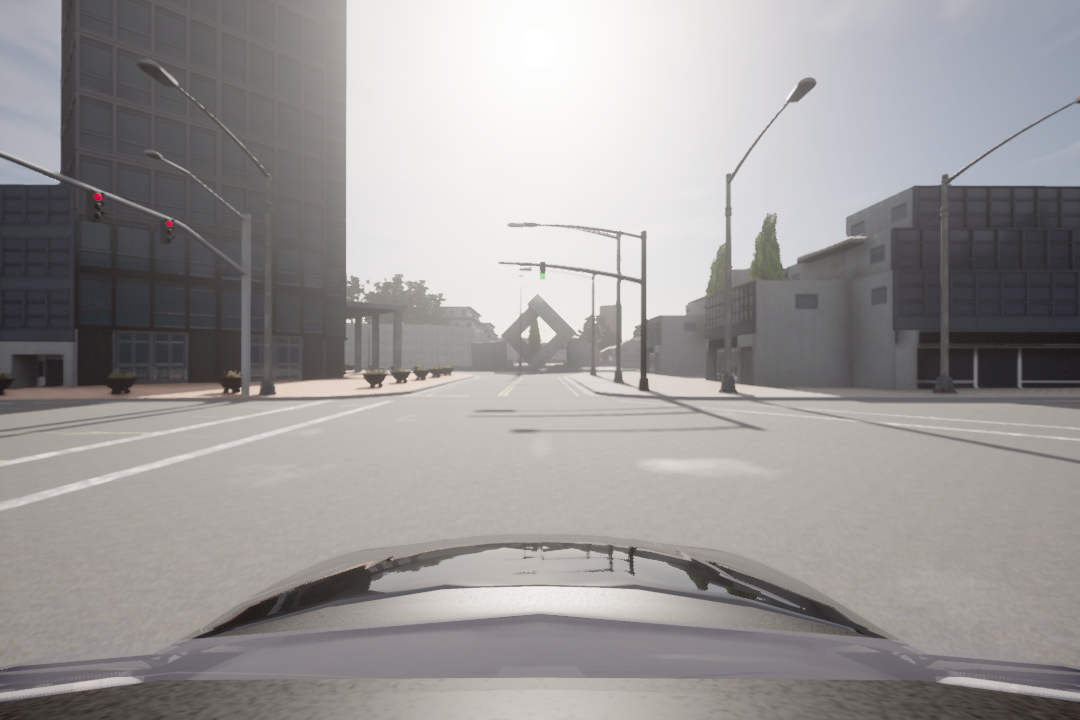TrafficLight: (83, 185, 107, 224), (154, 214, 175, 247), (537, 261, 547, 284)
